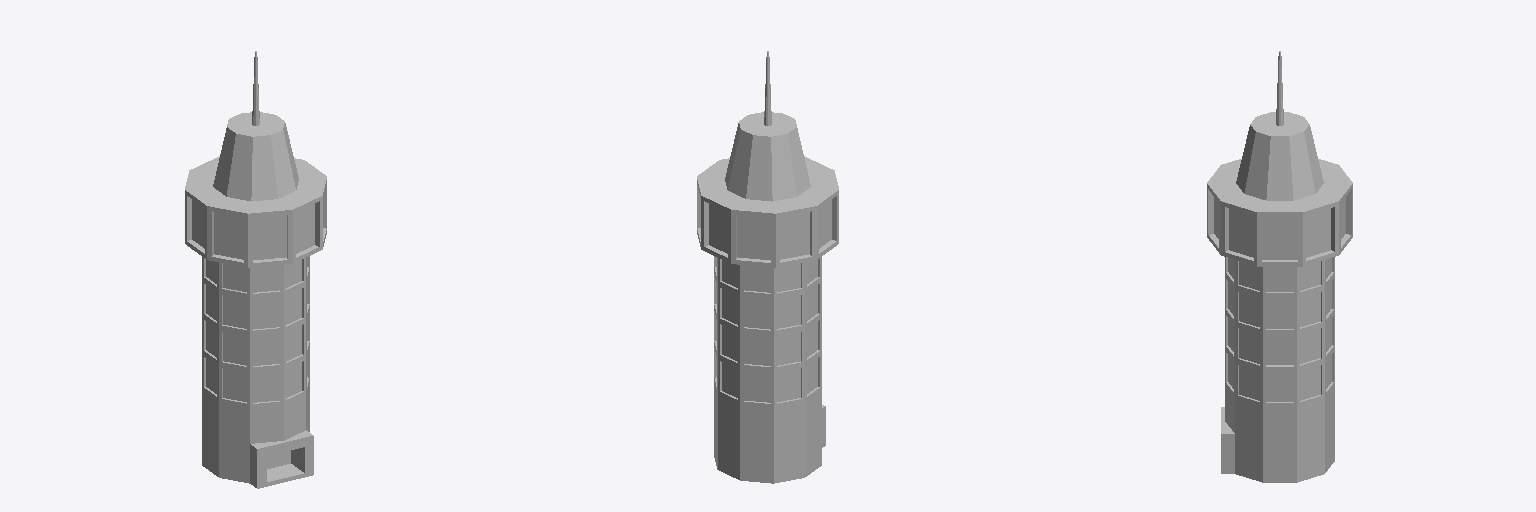
The model's file is building8.obj.
3 views of the same model, side by side, from view 1: azimuth 30°, elevation 25°; view 2: azimuth 150°, elevation 25°; view 3: azimuth 270°, elevation 25° (orthographic).
Parts seen in each view (by area): view 1: Skyscraper3; view 2: Skyscraper3; view 3: Skyscraper3.
Boxes of the visible parts, <box> form: Skyscraper3: <box>185,51,326,488</box>; Skyscraper3: <box>697,51,838,483</box>; Skyscraper3: <box>1207,51,1352,482</box>.
Size of the model in its own units: 1.2 by 3.9 by 1.26.